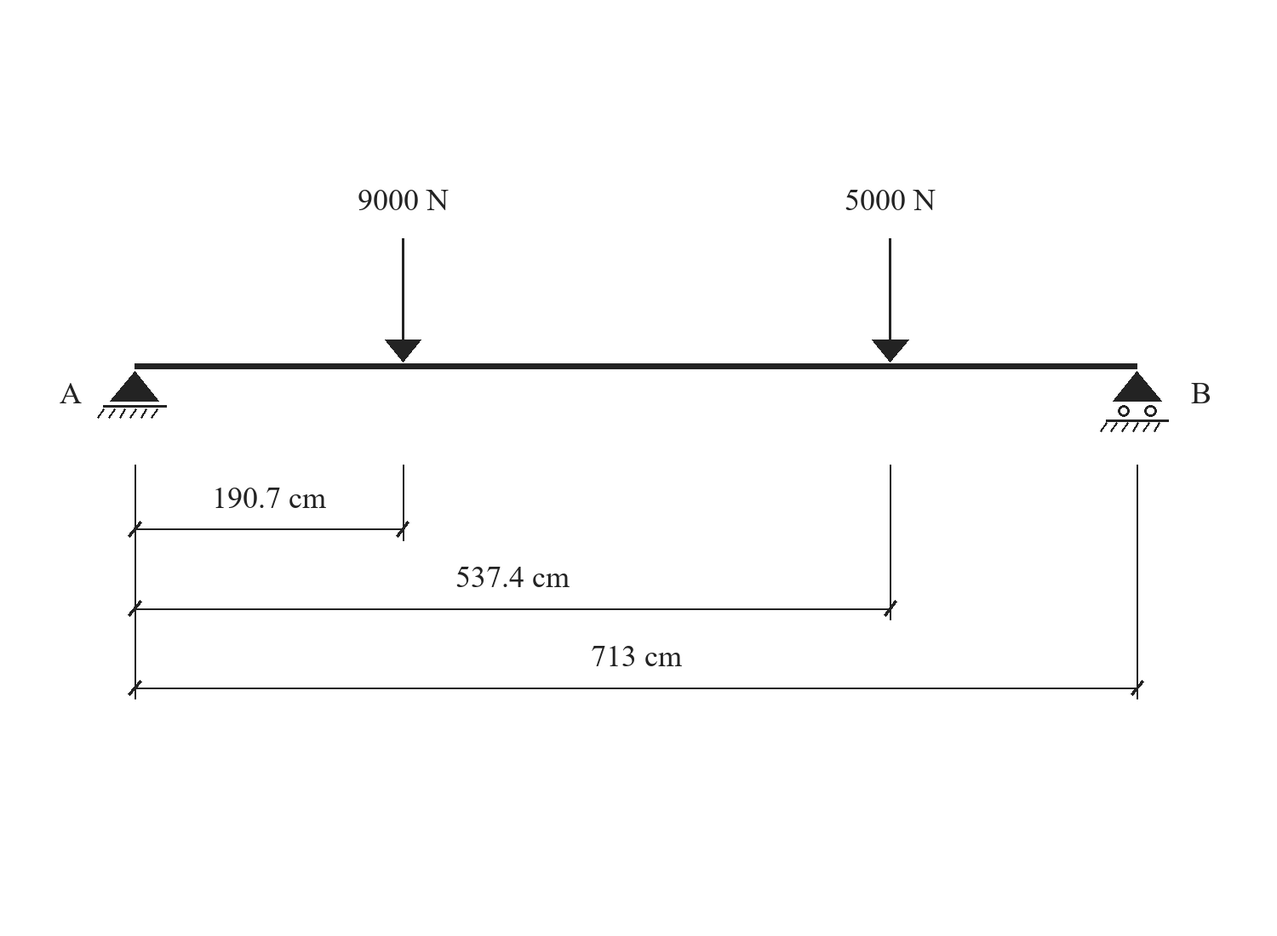pin_support: (97, 371, 167, 419)
point_load: (872, 238, 909, 362), (385, 238, 421, 362)
roller_support: (1100, 371, 1169, 432)
